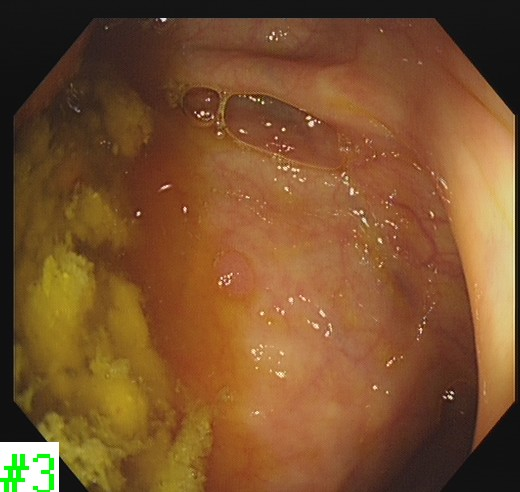adenoma: (207, 245, 258, 302)
